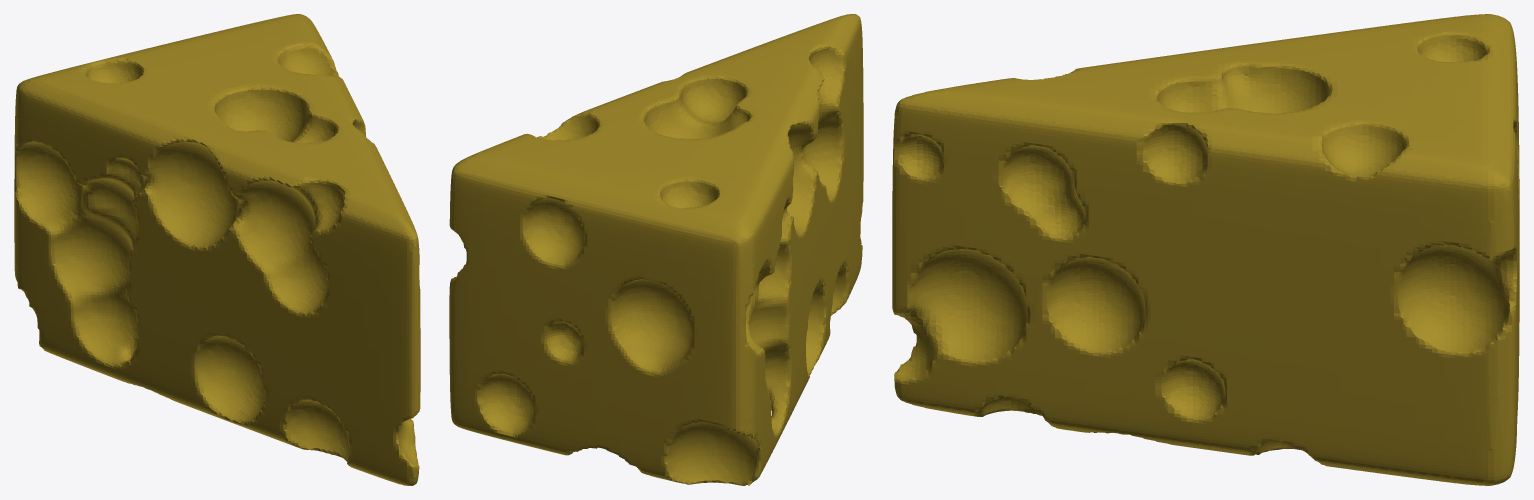
The model's file is cheese 1.fbx.
3 renders of one model, left to right at view 1: azimuth 30°, elevation 25°; view 2: azimuth 150°, elevation 25°; view 3: azimuth 270°, elevation 25°, orthographic. The views are drawn at different scales.
Parts seen in each view (by area): view 1: Cheese; view 2: Cheese; view 3: Cheese.
Boxes of the visible parts, bbox=[...] form: Cheese: bbox=[14, 14, 420, 485]; Cheese: bbox=[449, 14, 863, 485]; Cheese: bbox=[892, 14, 1519, 485].
Size of the model in its own units: 481 by 430 by 744.
